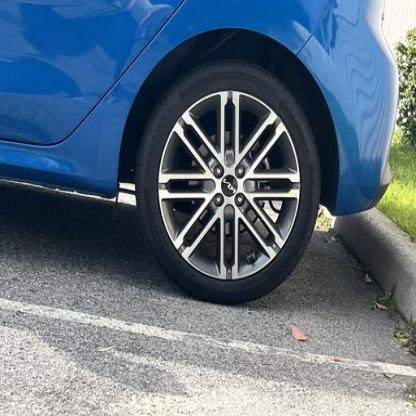Tire: (132, 61, 323, 306)
